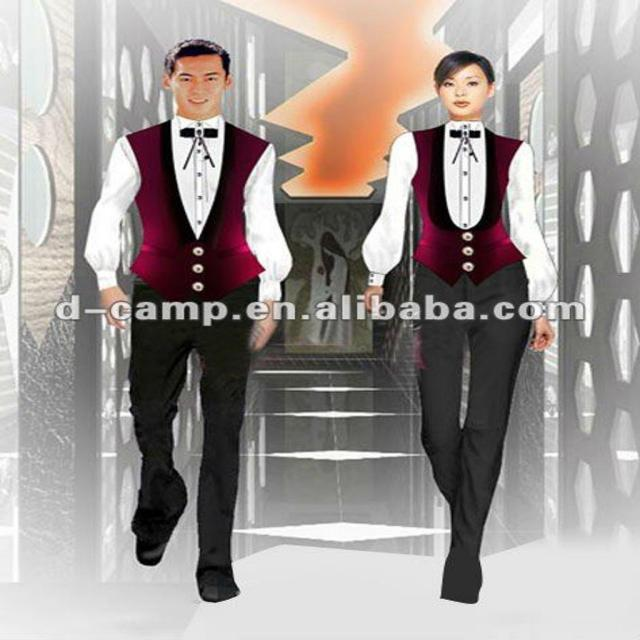nomask: (175, 52, 220, 118), (440, 63, 491, 112)
